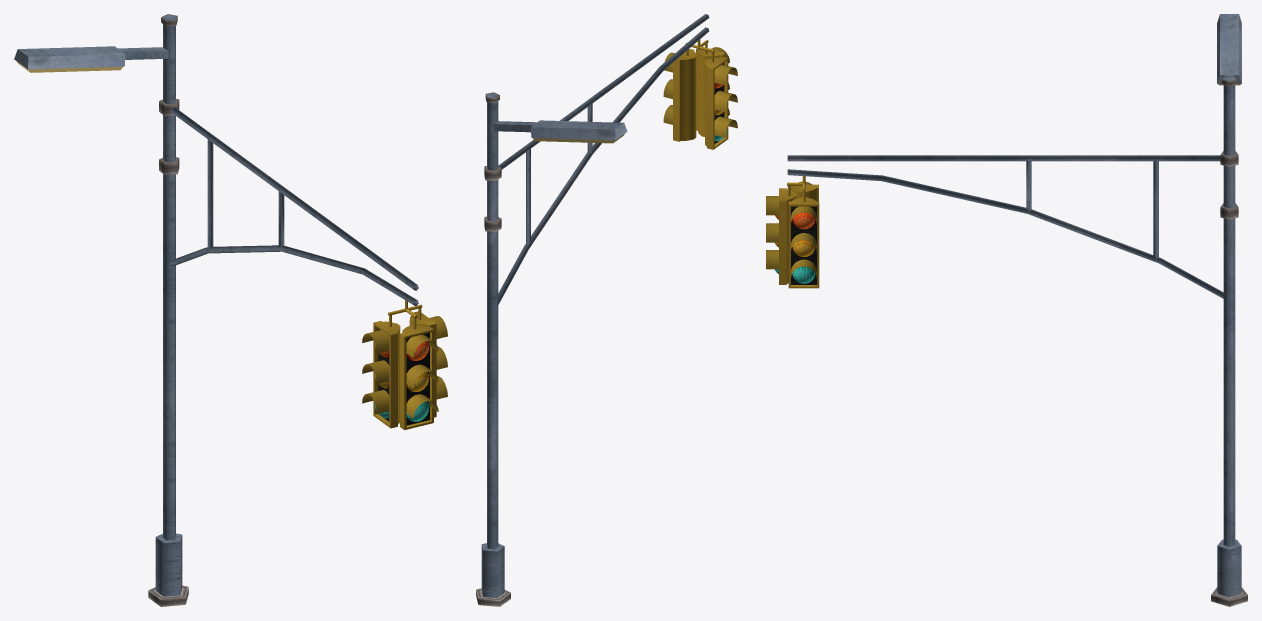
File: signal light1.FBX
3 renders of one model, left to right at view 1: azimuth 30°, elevation 25°; view 2: azimuth 150°, elevation 25°; view 3: azimuth 270°, elevation 25°, orthographic. The views are drawn at different scales.
Visible parts, largest first — view 1: signal light1; view 2: signal light1; view 3: signal light1.
Part boxes in pixels (x1,y1,x2,y2): signal light1: (14,14,447,606); signal light1: (476,14,737,606); signal light1: (766,14,1247,606).
Bounding box in the file's own units: 21.03 × 64.16 × 53.83.
